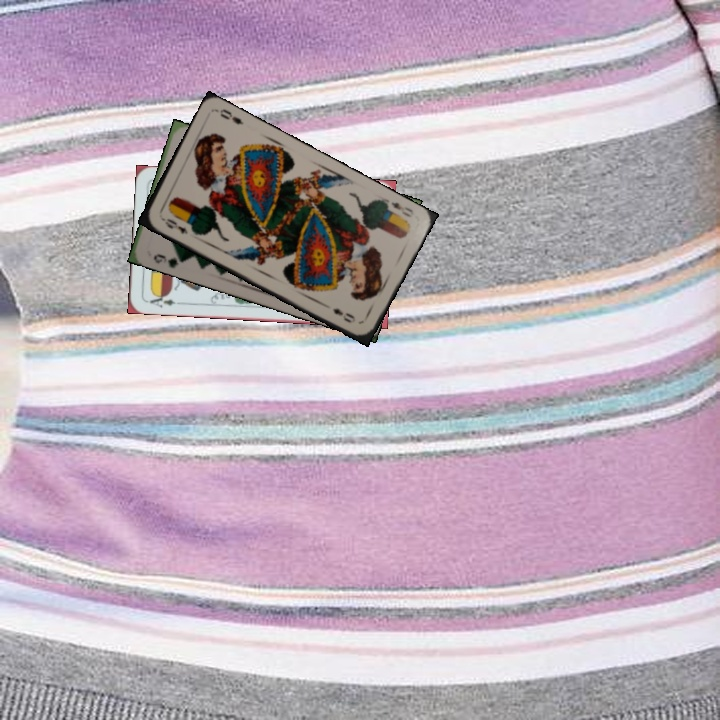EA: (143, 290, 178, 310)
EO: (380, 195, 416, 224), (157, 213, 190, 237)
G9: (149, 250, 186, 271)
